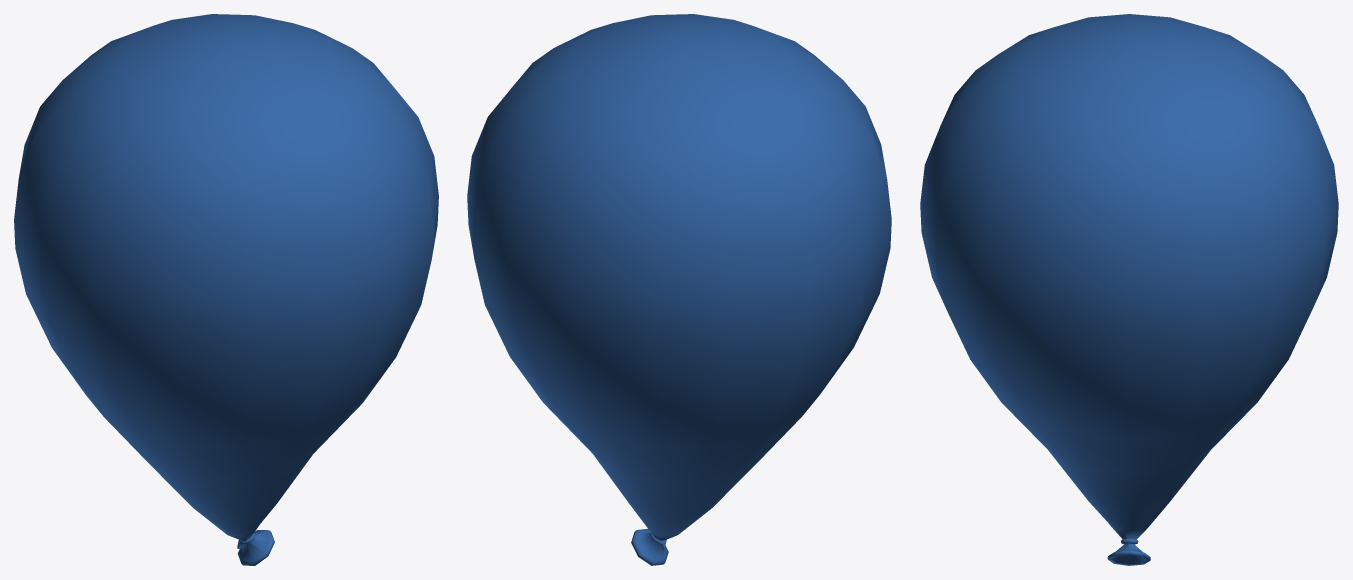
File: blueBloon.glb
3 views of the same model, side by side, from view 1: azimuth 30°, elevation 25°; view 2: azimuth 150°, elevation 25°; view 3: azimuth 270°, elevation 25° (orthographic). The views are drawn at different scales.
Bounding box in the file's own units: 0.3172 × 0.4338 × 0.3172.
